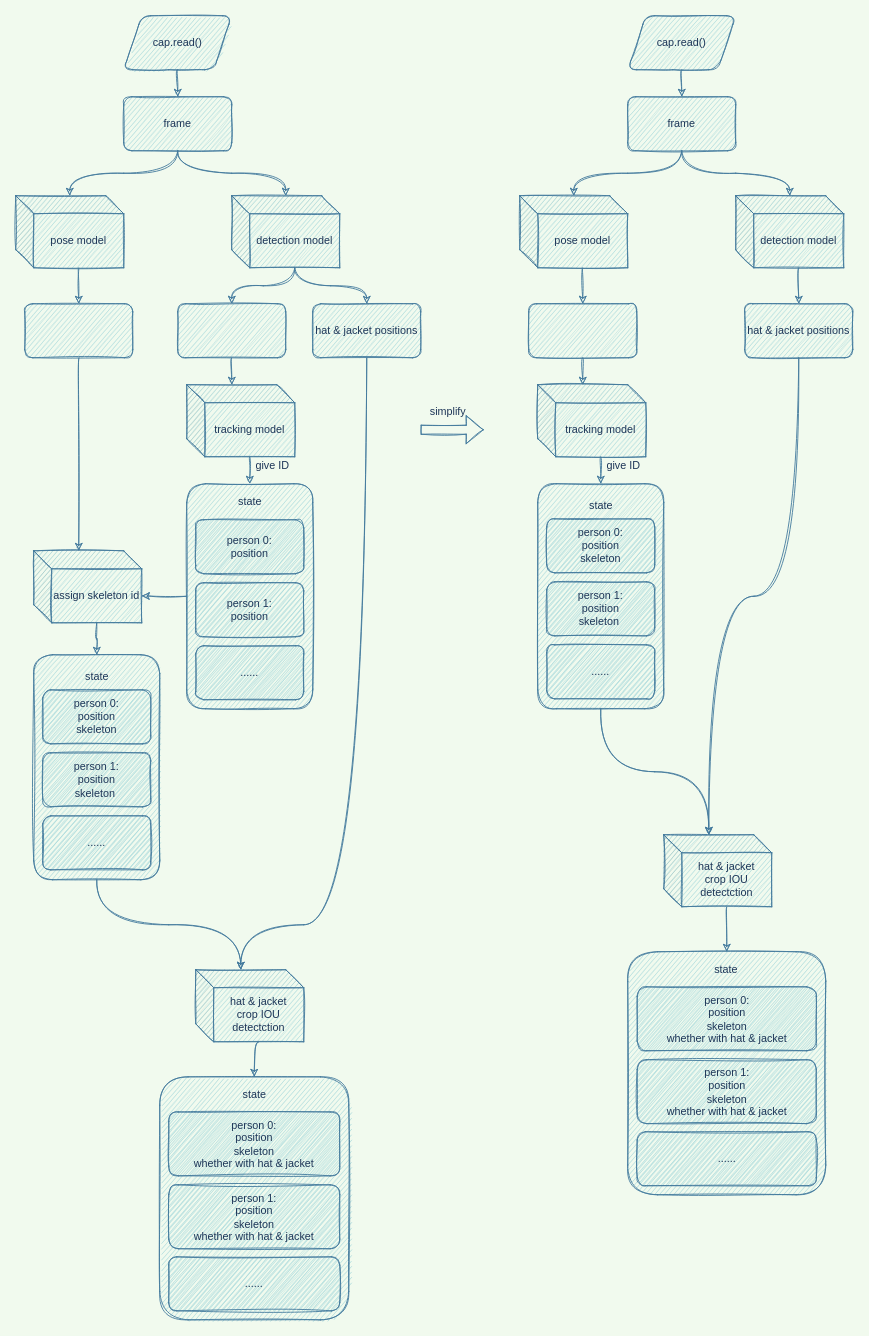
Image size: 869x1336. Some labels were removed from this diagram. The shapes that lost their labels are listed below. From the top down, each one's box as (x1, y1, x2, y2) in pixels, then its label:
(24, 303, 133, 358): keypoints positions (skeleton)
(177, 303, 286, 358): person positions
(528, 303, 637, 358): keypoints positions (person skeletons)
